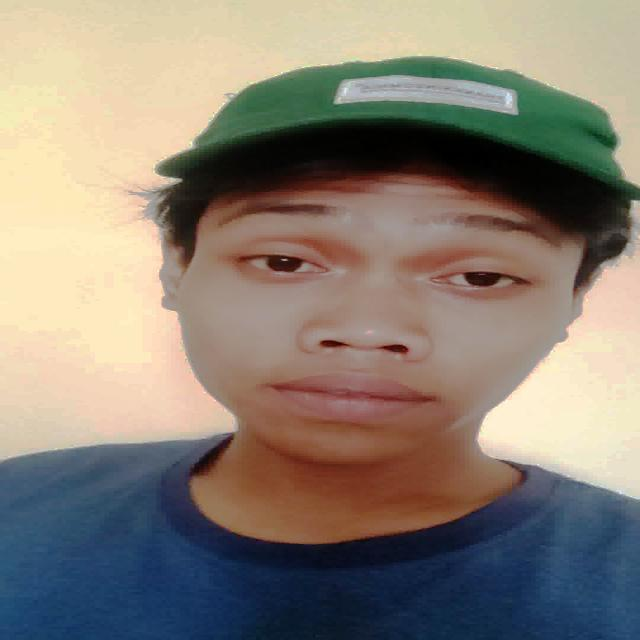TOPI: (167, 43, 640, 213)
